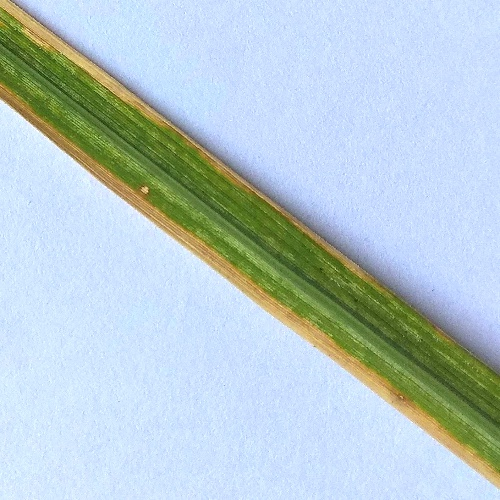Busuk Leher: (125, 85, 165, 126), (352, 360, 382, 410), (18, 13, 52, 53), (384, 379, 416, 419), (317, 329, 345, 370), (276, 305, 307, 334), (133, 171, 160, 200)
